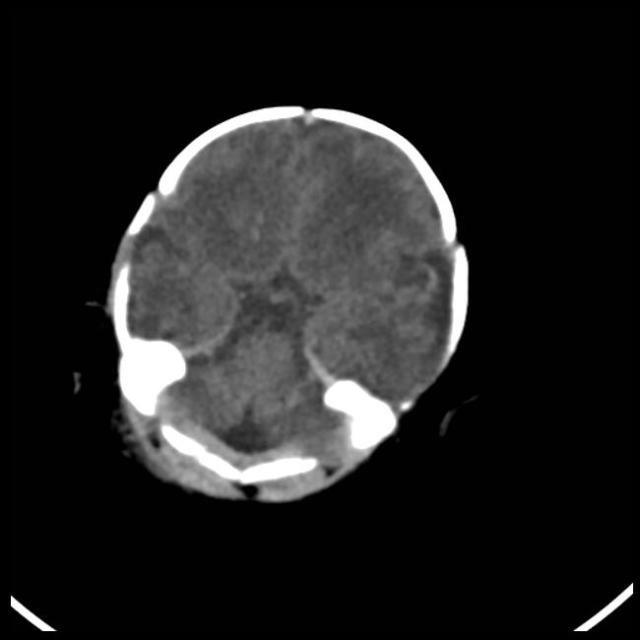lesion: (96, 100, 476, 508)
